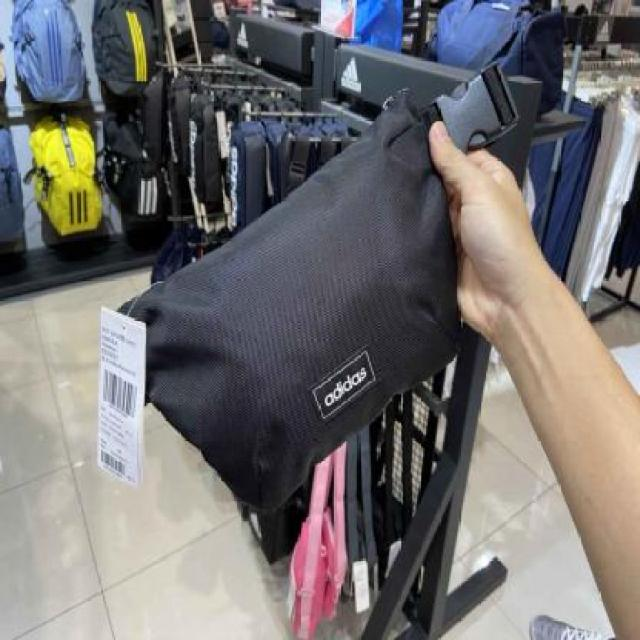Bag: (70, 41, 582, 542)
